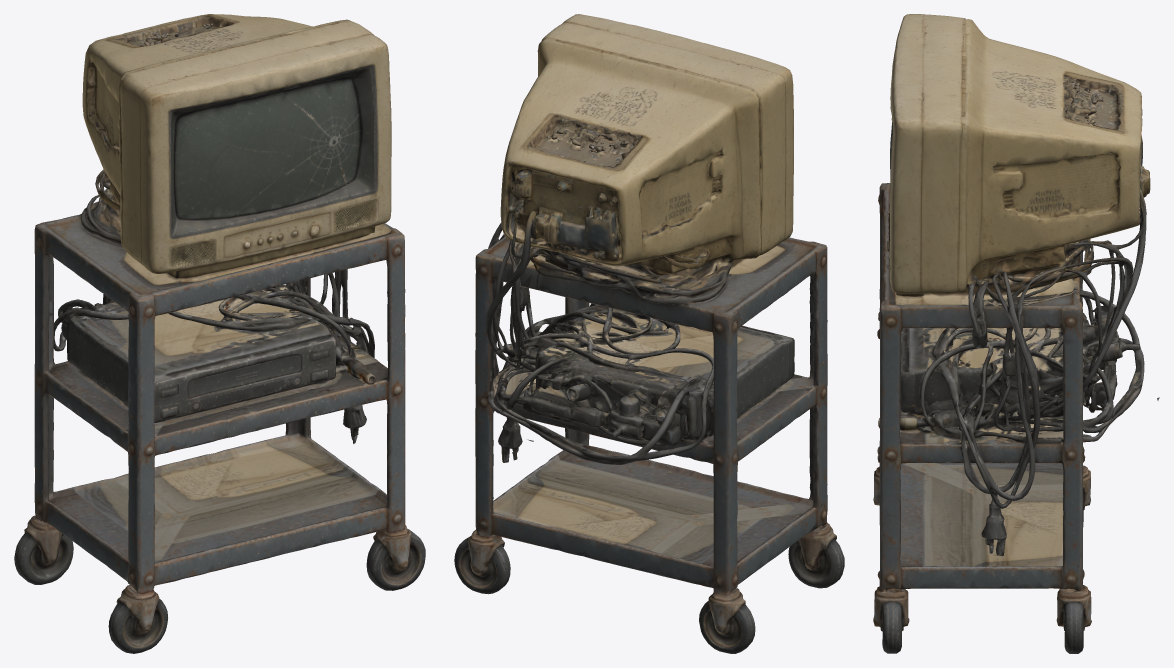
The model's file is TVCart.fbx.
3 renders of one model, left to right at view 1: azimuth 30°, elevation 25°; view 2: azimuth 150°, elevation 25°; view 3: azimuth 270°, elevation 25°, orthographic. The views are drawn at different scales.
Parts seen in each view (by area): view 1: texture_mapping; view 2: texture_mapping; view 3: texture_mapping.
Boxes of the visible parts, <box> form: texture_mapping: <box>14,14,425,653</box>; texture_mapping: <box>454,14,844,653</box>; texture_mapping: <box>873,14,1159,653</box>.
Bounding box in the file's own units: 0.6072 × 0.4939 × 1.
1 material, 1 textured.
